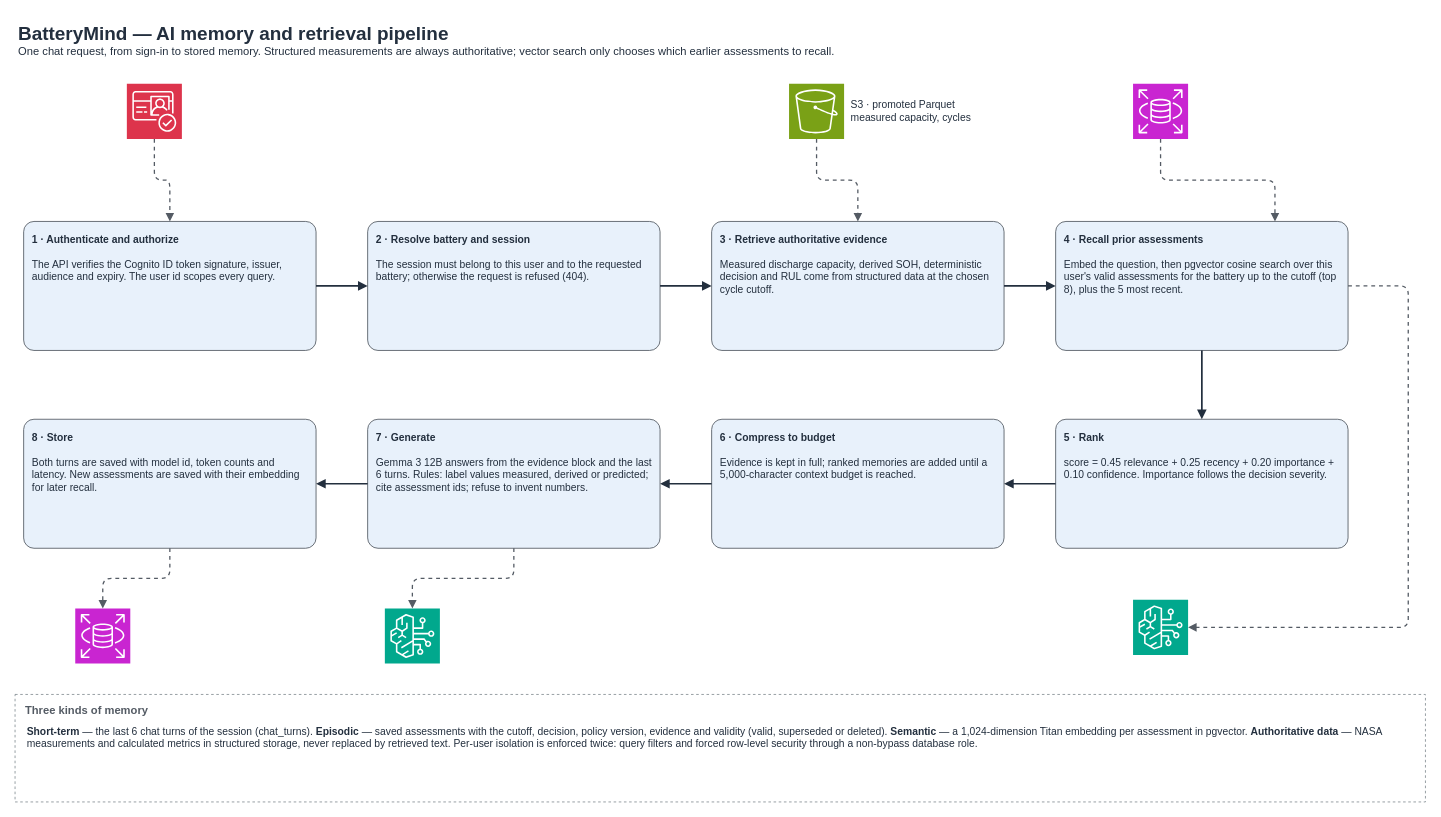
Image size: 1441x817. Some labels were removed from this diagram. Here are the shapes that lost their labels. From the top down, the centre of each, then its label:
At point (154, 111): "Amazon Cognito ID token, MFA".
At point (1160, 111): "RDS PostgreSQL + pgvector sessions · assessments · turns · embeddings".
At point (102, 635): "RDS PostgreSQL row-level security".
At point (412, 635): "Amazon Bedrock Gemma 3 12B (chat)".
At point (1160, 627): "Amazon Bedrock Titan Text Embeddings V2".
